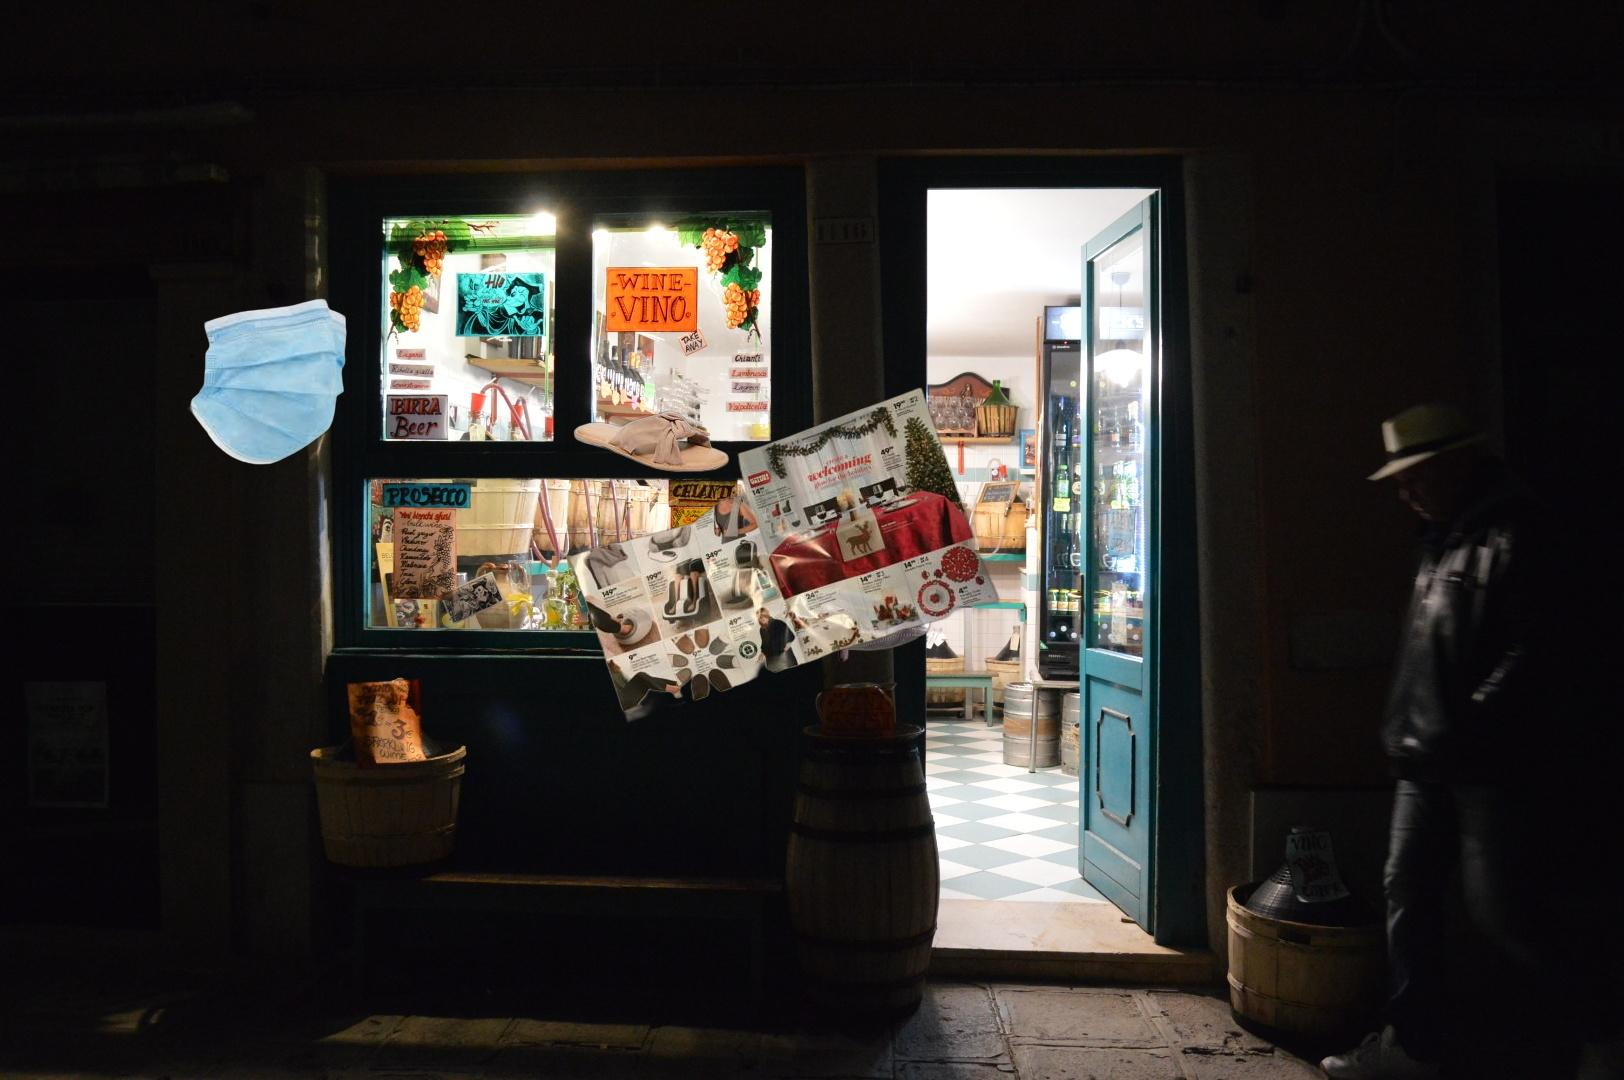paper: (564, 385, 1006, 727)
shoes: (745, 518, 934, 670), (571, 407, 732, 475)
trash: (153, 297, 349, 479)
